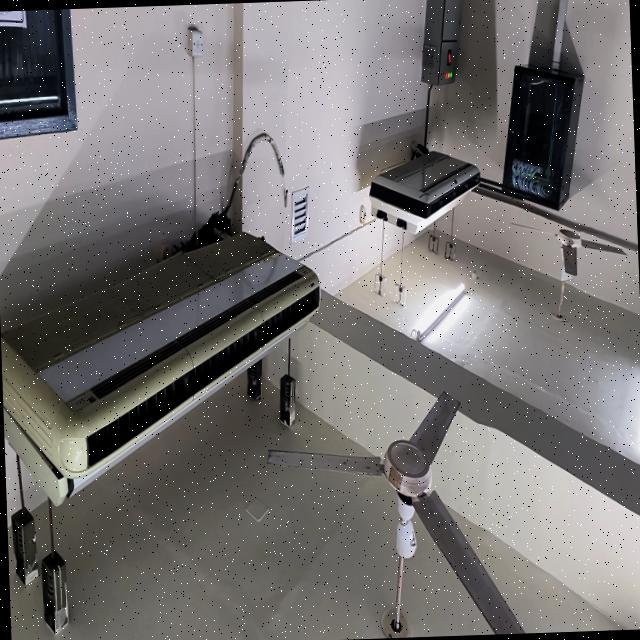Ac: (0, 223, 321, 505), (369, 146, 480, 233)
Fire Extinguisher: (421, 0, 459, 85)
Light: (409, 283, 465, 340)
